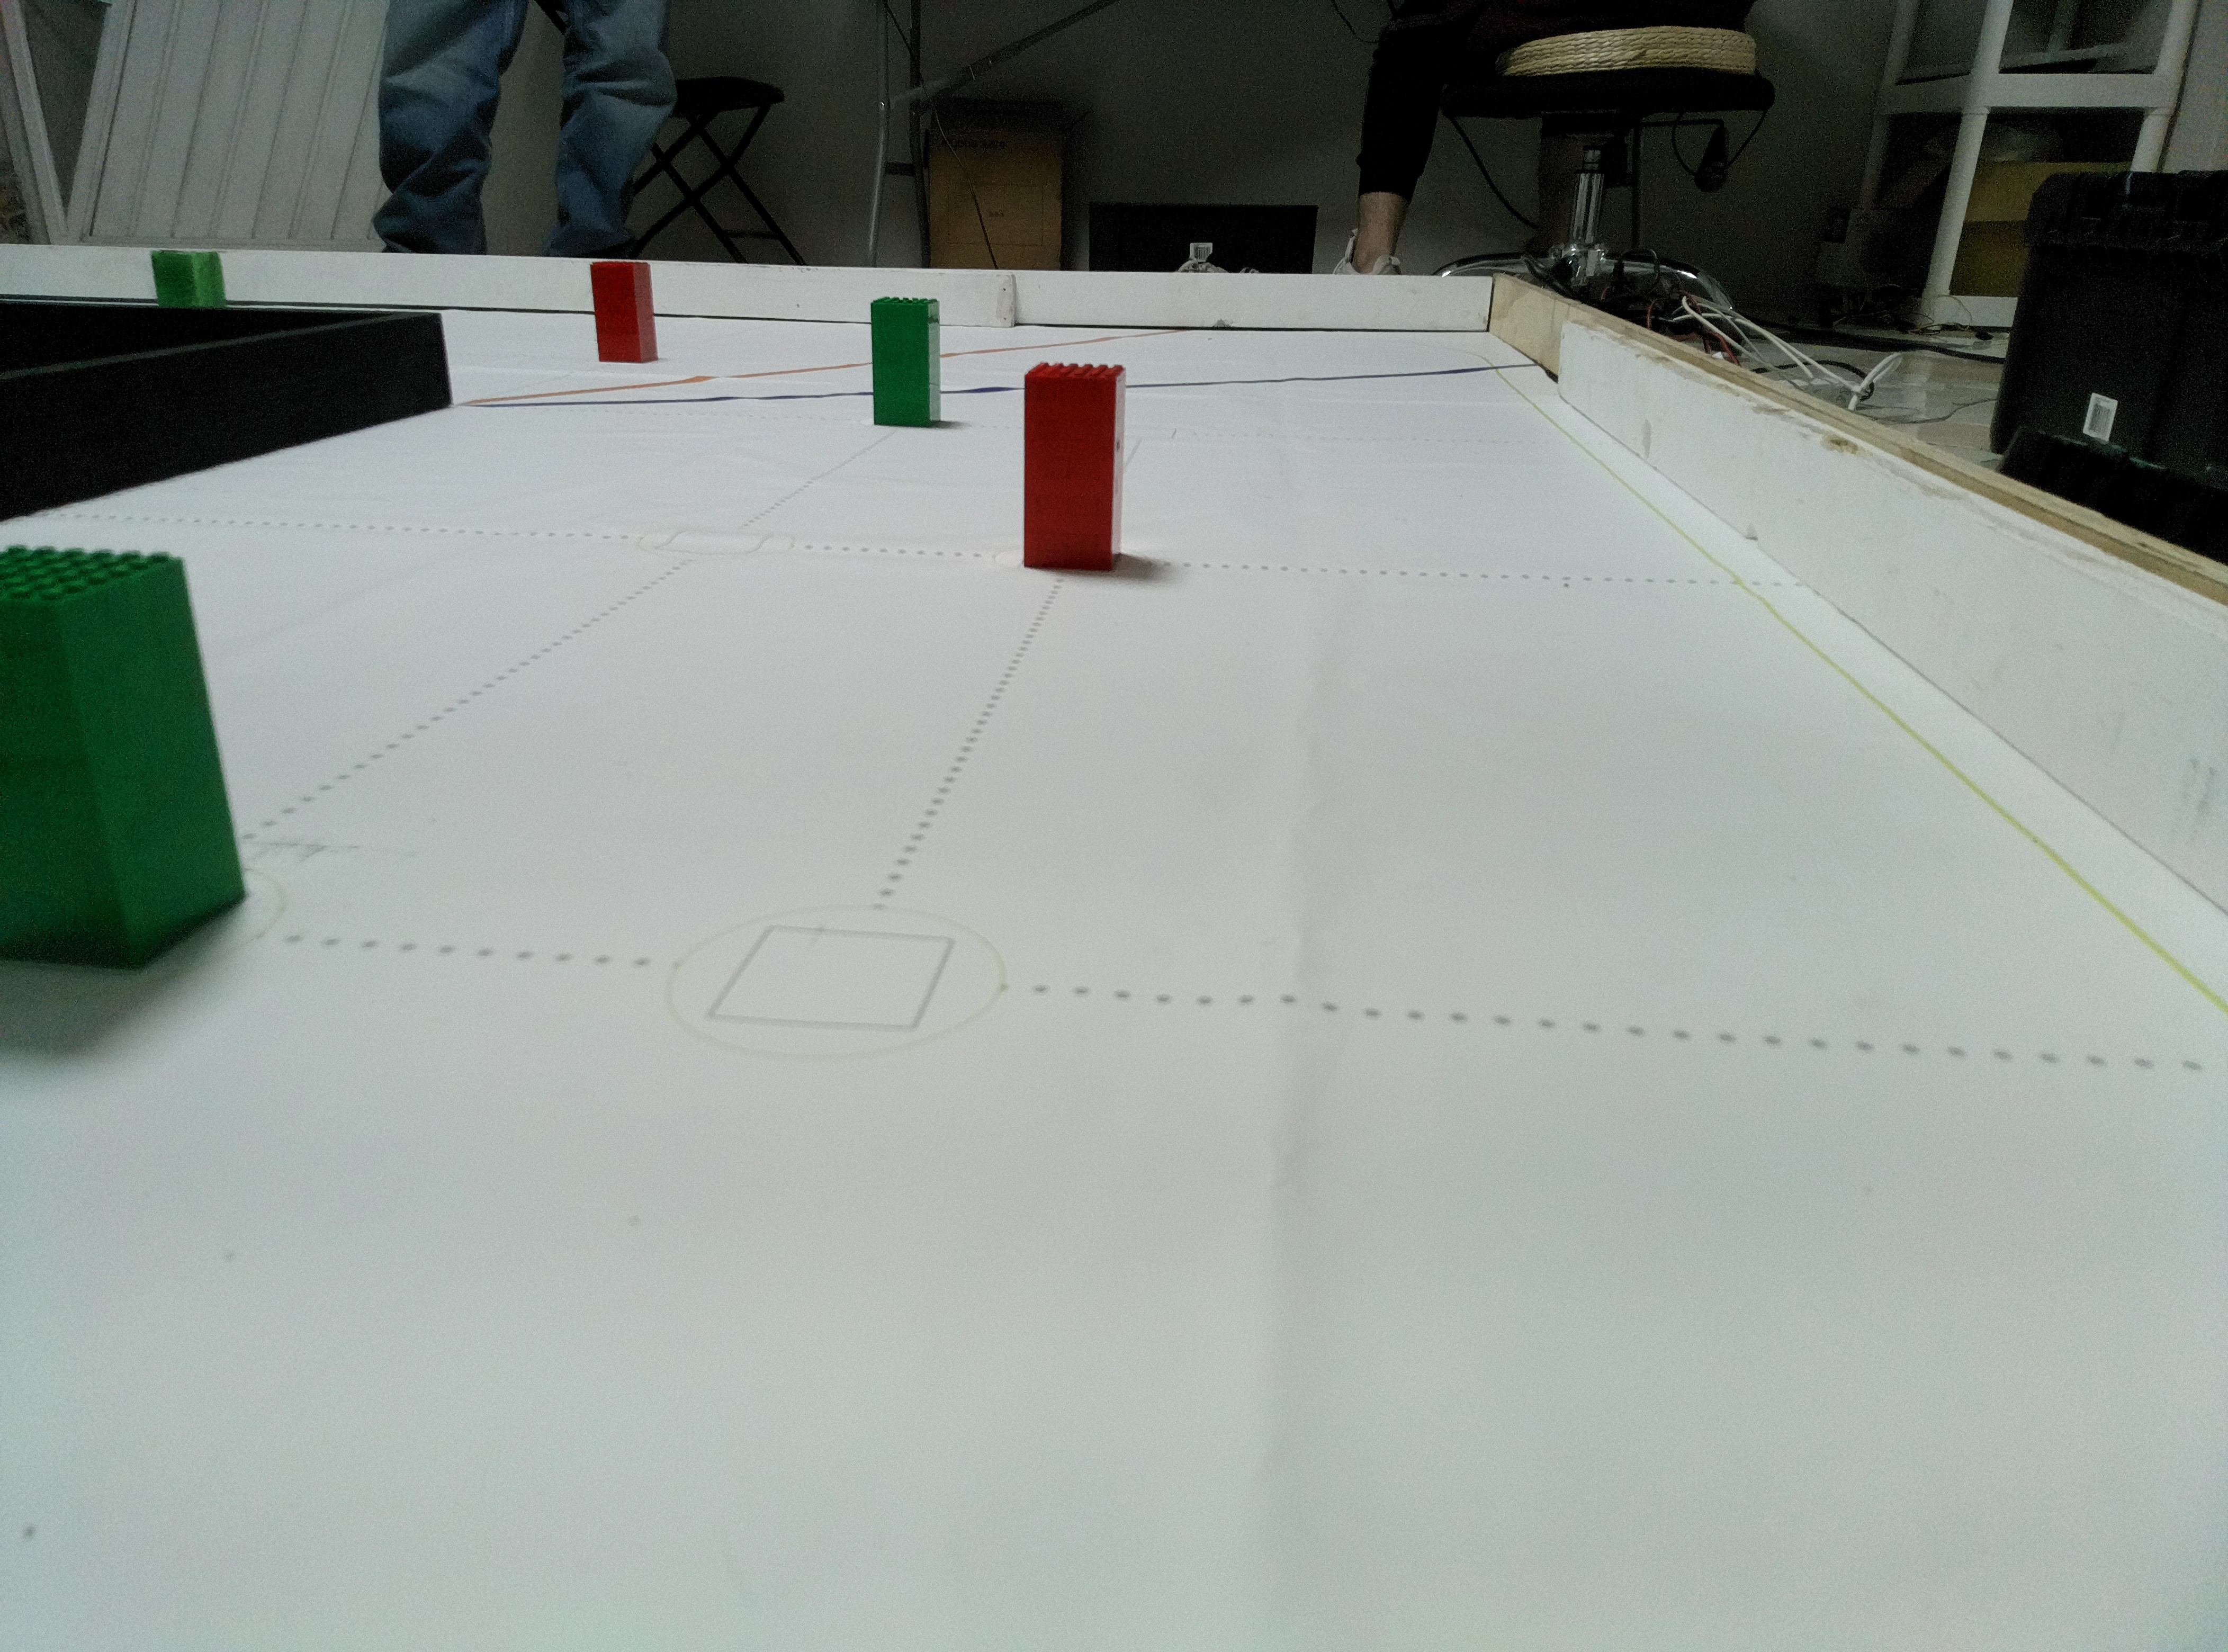greenbox: (0, 536, 274, 961), (866, 290, 944, 432), (144, 246, 231, 309)
redbox: (1024, 357, 1128, 564), (588, 255, 659, 361)
